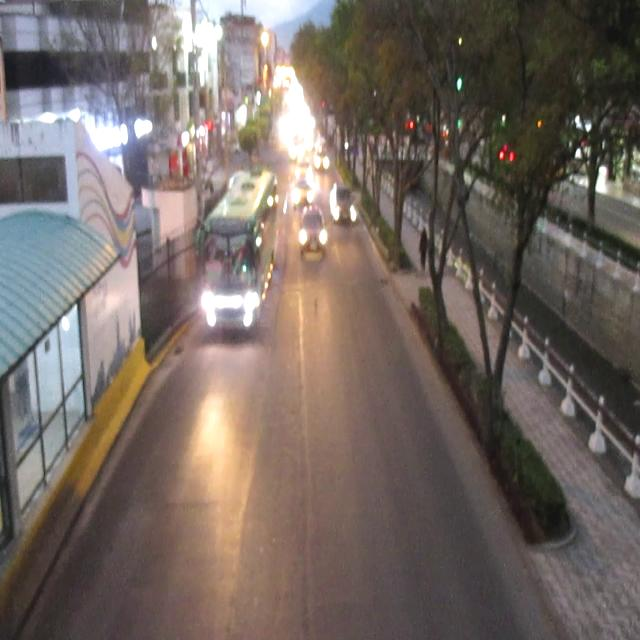BUS: (204, 170, 276, 330)
